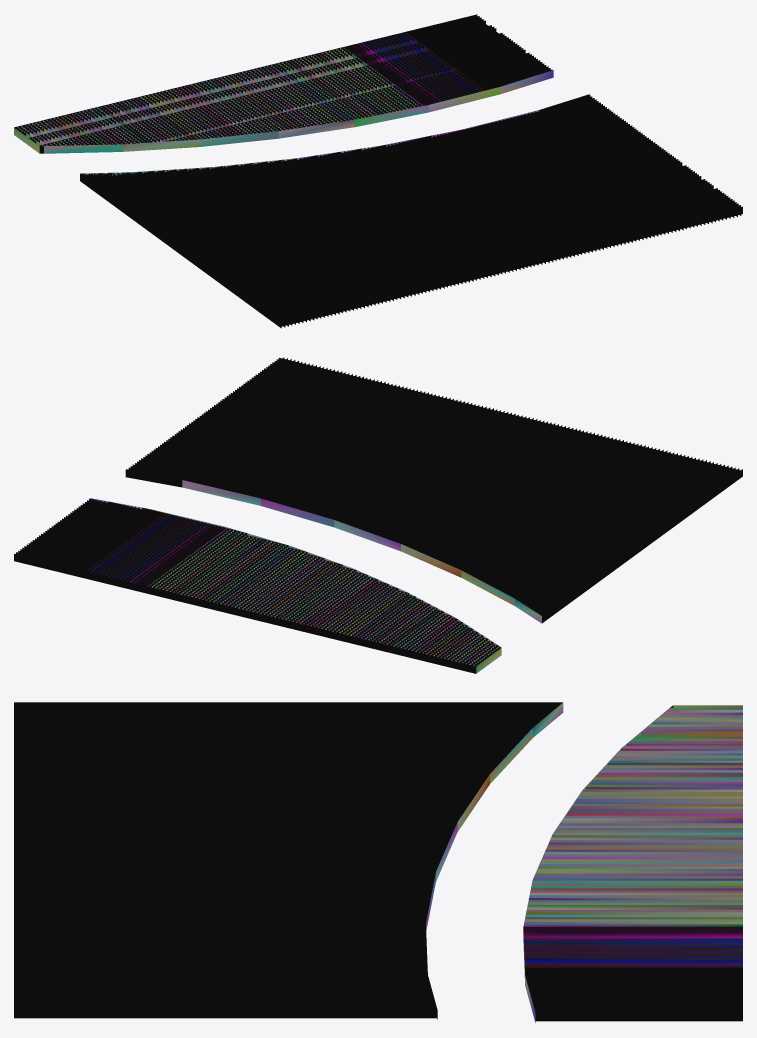
The model's file is Grass_13.gltf.
3 views of the same model, one above another, from view 1: azimuth 30°, elevation 25°; view 2: azimuth 150°, elevation 25°; view 3: azimuth 270°, elevation 25° (orthographic). The views are drawn at different scales.
Visible parts, largest first — view 1: Grass_13; view 2: Grass_13; view 3: Grass_13.
Boxes of the visible parts, left/top/right/bottom form: Grass_13: left=14, top=14, right=742, bottom=328; Grass_13: left=14, top=357, right=742, bottom=673; Grass_13: left=14, top=702, right=742, bottom=1022.
Size of the model in its own units: 5.12 by 0.1031 by 5.12.
